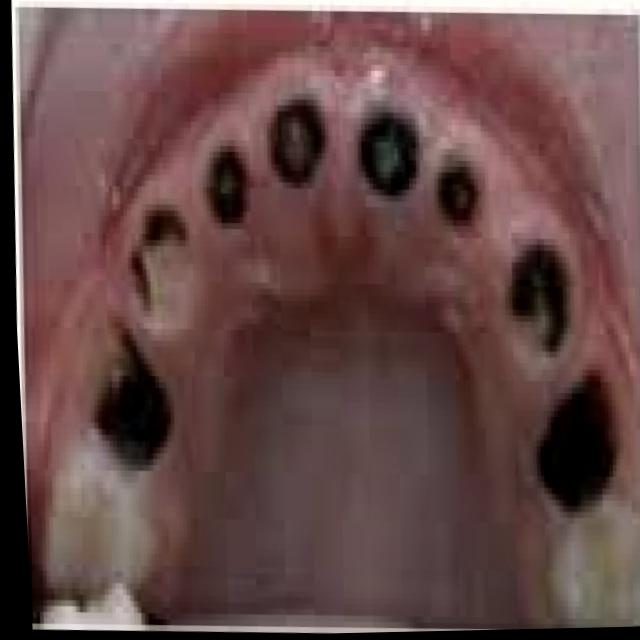cariess: (540, 375, 616, 506), (98, 334, 170, 464), (131, 204, 193, 328), (198, 104, 257, 223), (512, 244, 570, 351), (270, 87, 328, 182), (361, 106, 419, 189), (441, 160, 477, 220)
